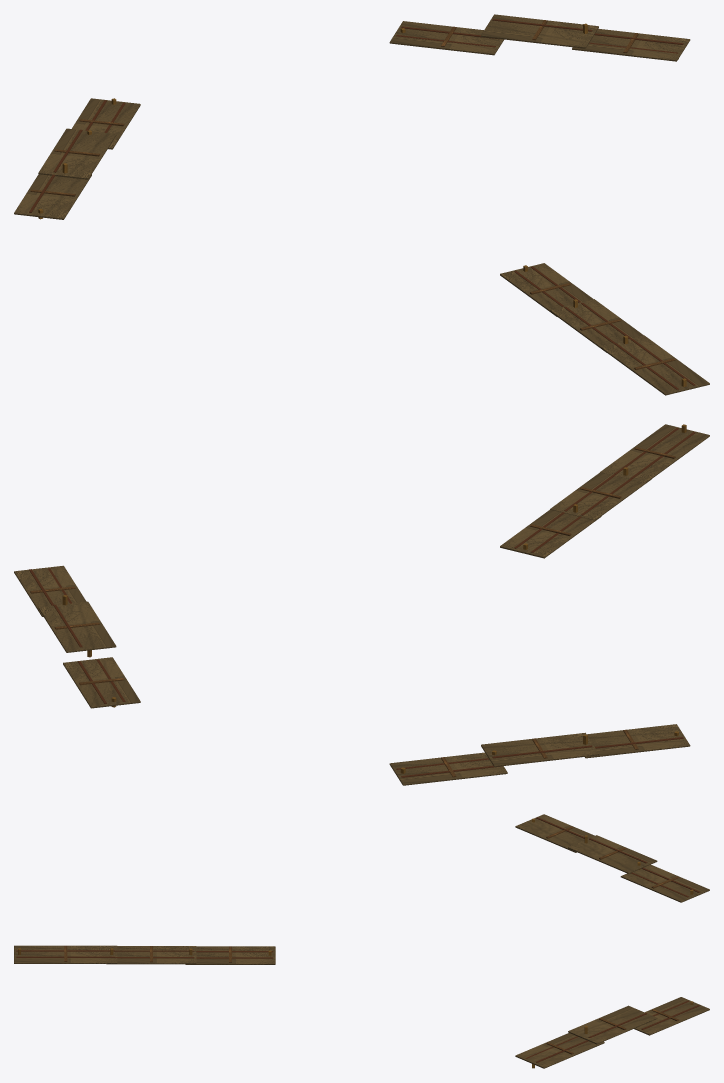
Rendered from night_work_road.glb.
The picture shows the model from 3 angles, top to bottom: view 1: azimuth 30°, elevation 25°; view 2: azimuth 150°, elevation 25°; view 3: azimuth 270°, elevation 25°; orthographic projection. The views are drawn at different scales.
Parts seen in each view (by area): view 1: night_work_road; view 2: night_work_road; view 3: night_work_road.
Part boxes in pixels (<box>): night_work_road: <box>14,14,709,395</box>; night_work_road: <box>14,424,709,785</box>; night_work_road: <box>14,814,709,1068</box>.
Size of the model in its own units: 46.77 by 2.67 by 52.81.
1 material, 1 textured.
